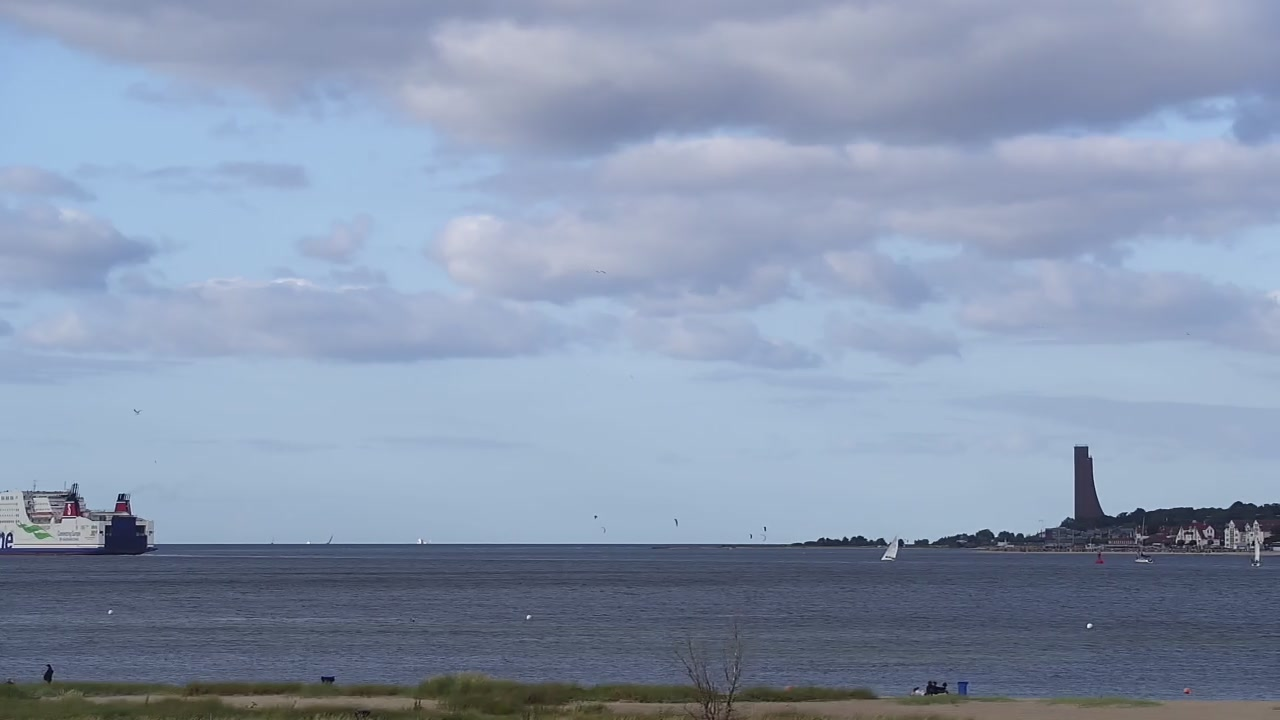human: (42, 663, 54, 683)
sea: (1, 479, 157, 555), (1132, 516, 1153, 564), (879, 534, 899, 562), (1248, 535, 1260, 568), (415, 536, 426, 545), (327, 534, 334, 544), (306, 539, 311, 545)
